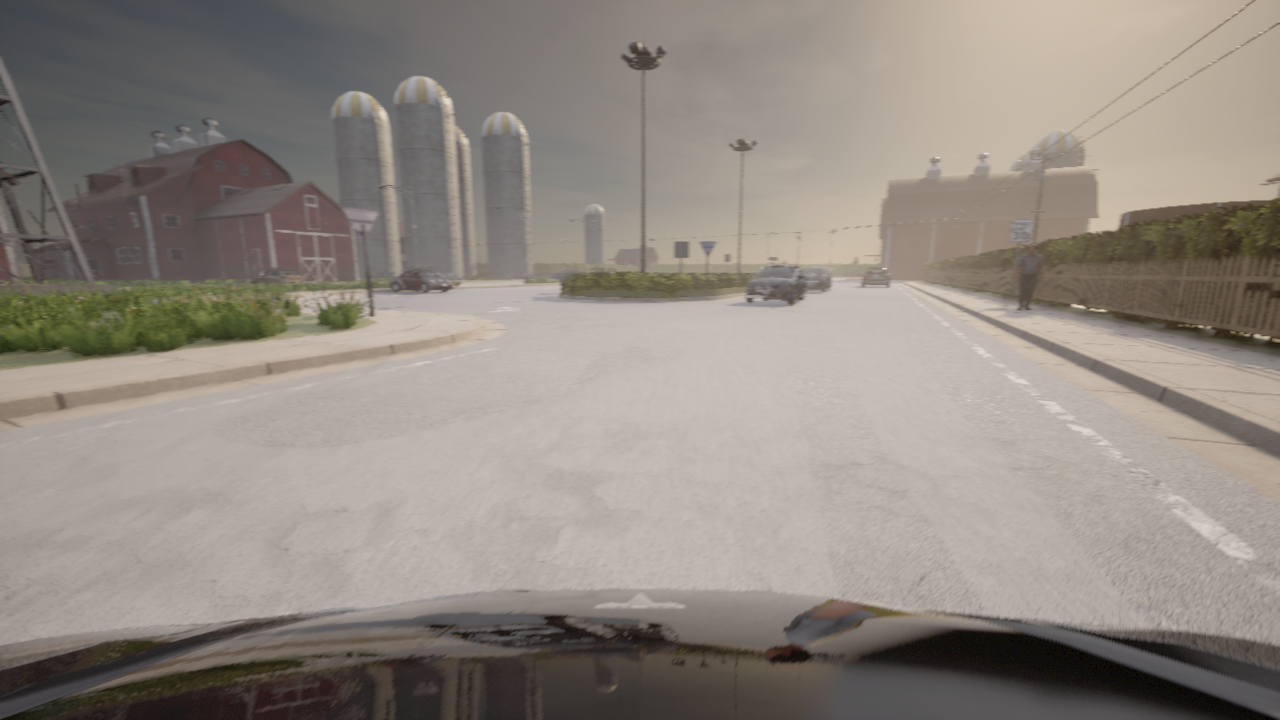cyclist: (0, 588, 1279, 719), (745, 265, 806, 304), (391, 269, 453, 292), (252, 269, 306, 284), (801, 266, 830, 292), (861, 267, 890, 287), (410, 266, 447, 278), (551, 270, 581, 278), (587, 267, 620, 273)
pedestrian: (1015, 244, 1041, 309), (414, 262, 419, 268)
